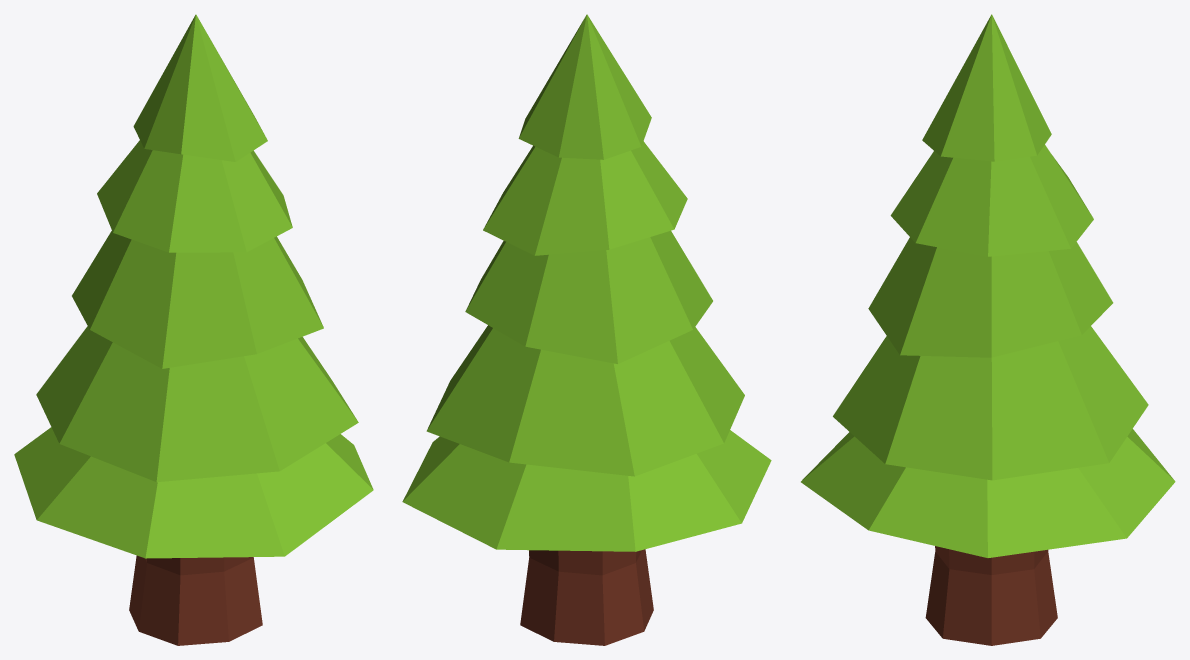
Rendered from maya_export_Tree2_v1.fbx.
The picture shows the model from 3 angles, left to right: view 1: azimuth 30°, elevation 25°; view 2: azimuth 150°, elevation 25°; view 3: azimuth 270°, elevation 25°; orthographic projection.
Parts seen in each view (by area): view 1: Tree2_v1; view 2: Tree2_v1; view 3: Tree2_v1.
Boxes of the visible parts, left/top/right/bottom form: Tree2_v1: left=14, top=14, right=373, bottom=645; Tree2_v1: left=402, top=14, right=771, bottom=645; Tree2_v1: left=801, top=14, right=1175, bottom=645.
Bounding box in the file's own units: 3.2 × 5.9 × 3.32.
1 material, 1 textured.
